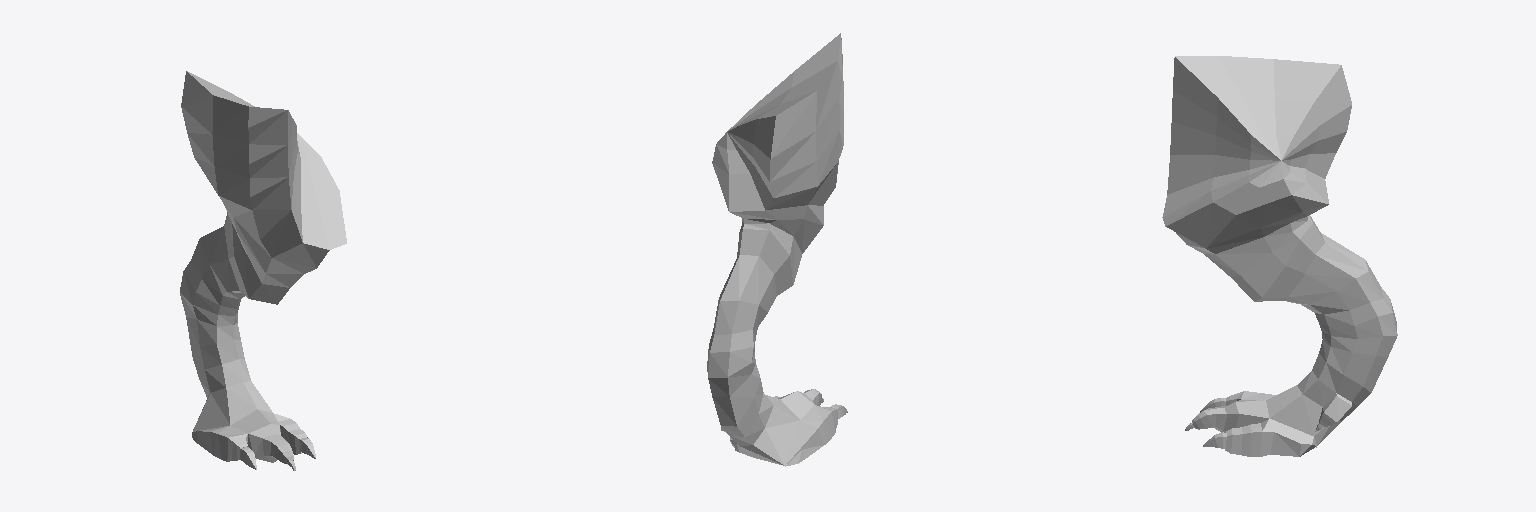
File: spinosaurusLeftLeg.obj
3 views of the same model, side by side, from view 1: azimuth 30°, elevation 25°; view 2: azimuth 150°, elevation 25°; view 3: azimuth 270°, elevation 25° (orthographic).
Visible parts, largest first — view 1: Legs.001_Cube.000; view 2: Legs.001_Cube.000; view 3: Legs.001_Cube.000.
Boxes of the visible parts, <box> form: Legs.001_Cube.000: <box>180,71,346,470</box>; Legs.001_Cube.000: <box>707,33,847,466</box>; Legs.001_Cube.000: <box>1162,56,1397,456</box>.
Bounding box in the file's own units: 0.8766 × 3.18 × 1.79.